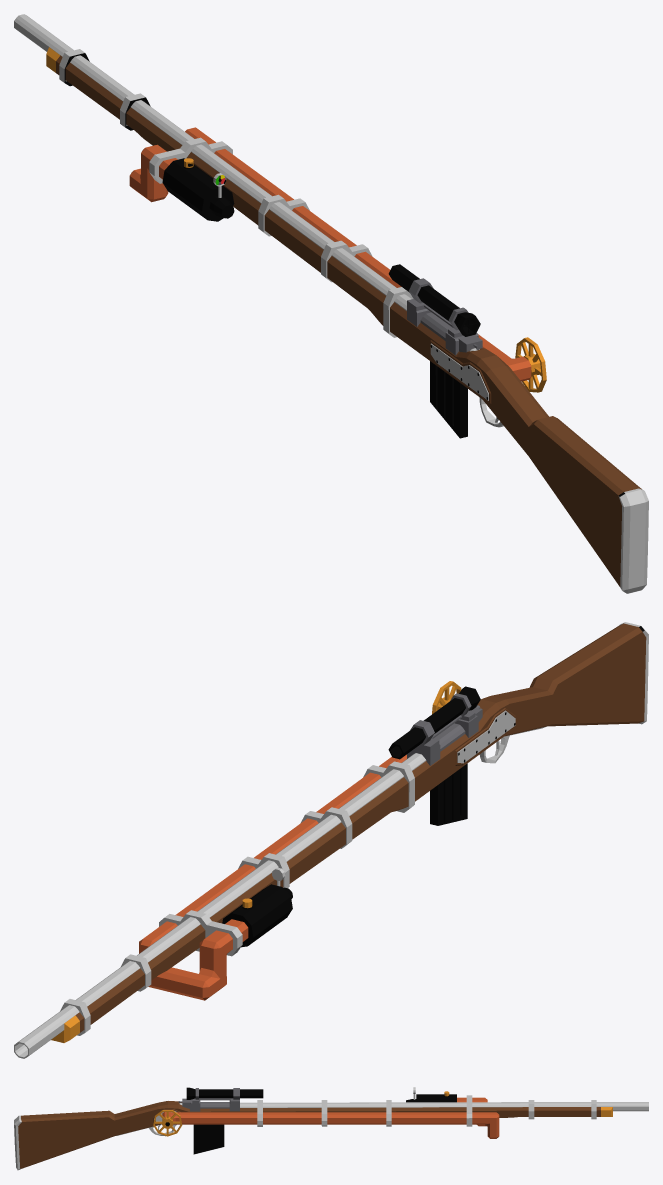
Rendered from Sniper (1).fbx.
The picture shows the model from 3 angles, top to bottom: view 1: azimuth 30°, elevation 25°; view 2: azimuth 150°, elevation 25°; view 3: azimuth 270°, elevation 25°; orthographic projection. The views are drawn at different scales.
Visible parts, largest first — view 1: SRifle 1, Steam Stuff 2, Scope 1, Binding Things 2, Magazine 2, Valve 2; view 2: SRifle 1, Steam Stuff 2, Binding Things 2, Scope 1, Magazine 2; view 3: SRifle 1, Steam Stuff 2, Scope 1, Binding Things 2, Magazine 2, Valve 2.
Boxes of the visible parts, x1,y1,x2,y2 form: SRifle 1: (14,14,648,593); Steam Stuff 2: (129,127,531,381); Scope 1: (388,264,482,355); Binding Things 2: (59,49,413,337); Magazine 2: (430,361,467,438); Valve 2: (515,337,546,392); SRifle 1: (14,622,648,1058); Steam Stuff 2: (139,754,406,1000); Binding Things 2: (60,761,414,1035); Scope 1: (388,686,482,765); Magazine 2: (430,763,467,825); SRifle 1: (14,1101,648,1170); Steam Stuff 2: (162,1087,499,1138); Scope 1: (178,1087,263,1111); Binding Things 2: (257,1095,596,1126); Magazine 2: (193,1124,224,1154); Valve 2: (153,1110,182,1136).
Bounding box in the file's own units: 46.92 × 74.11 × 535.
